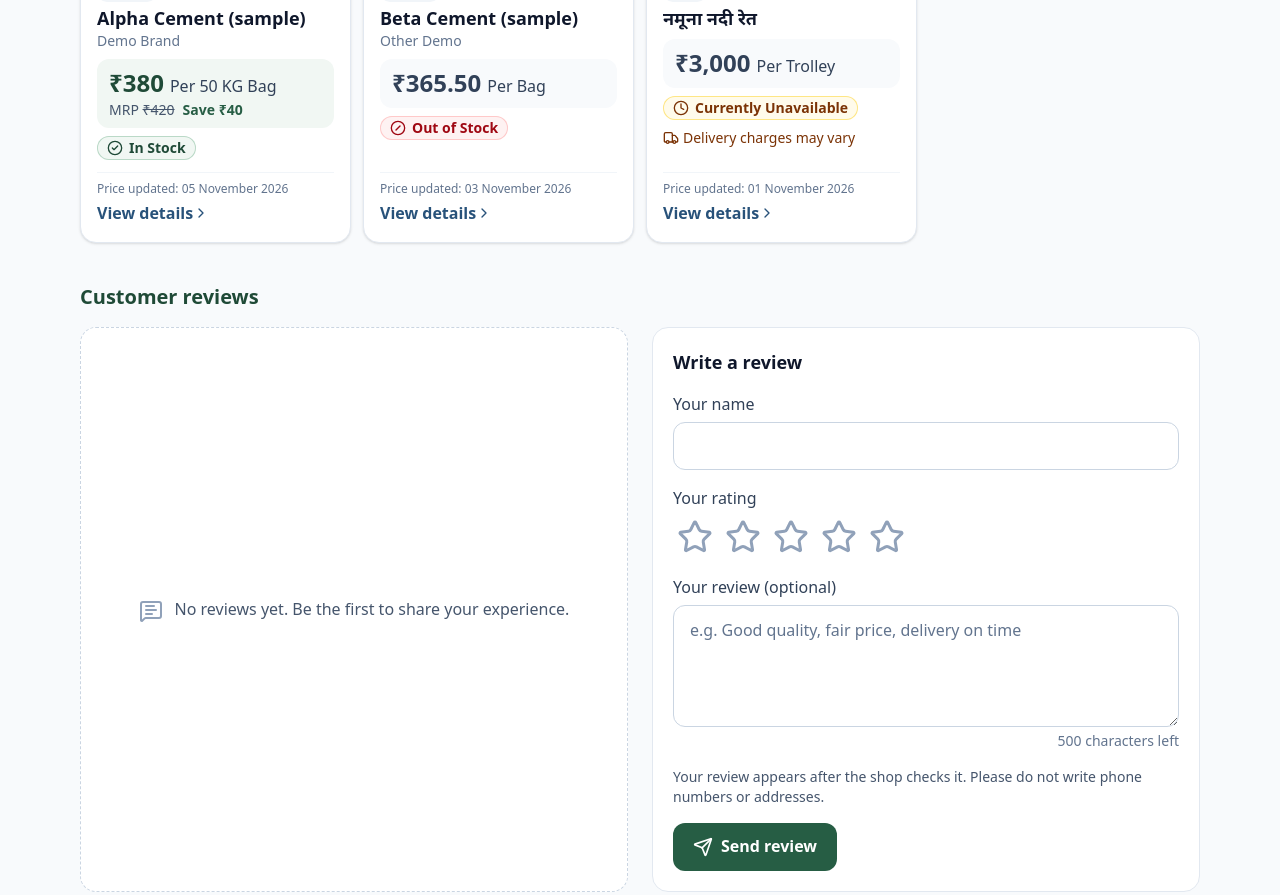
Test case: Shop photo, gallery and reviews below the products › sends a review and explains that it appears after the shop checks it
(page scrolled)
Step 1. Type "  Sample Customer " into the field labelled "Your name" → (926, 446), box [673,422,1179,470]
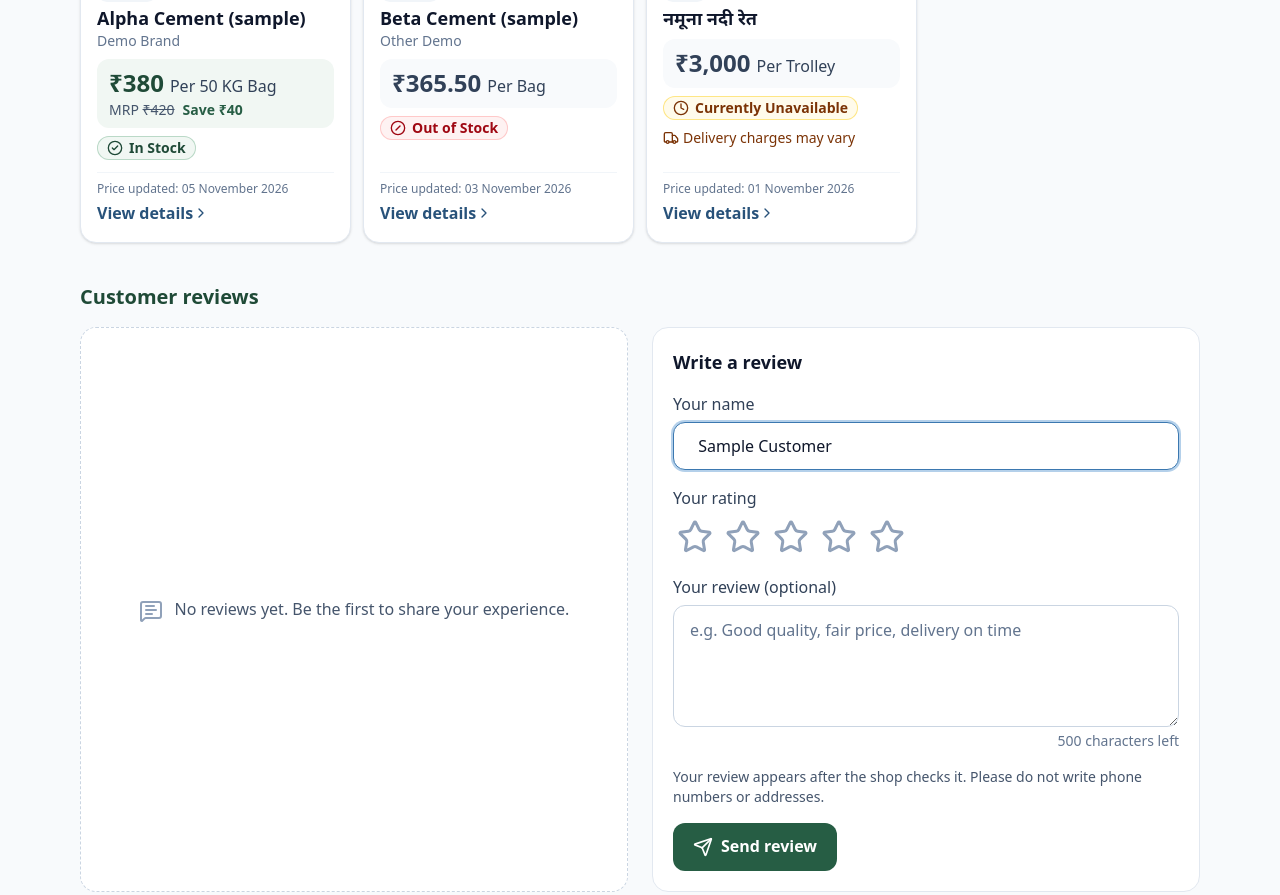
Step 2. Click the radio button named "4 stars" → click(839, 537), box [817,515,861,559]
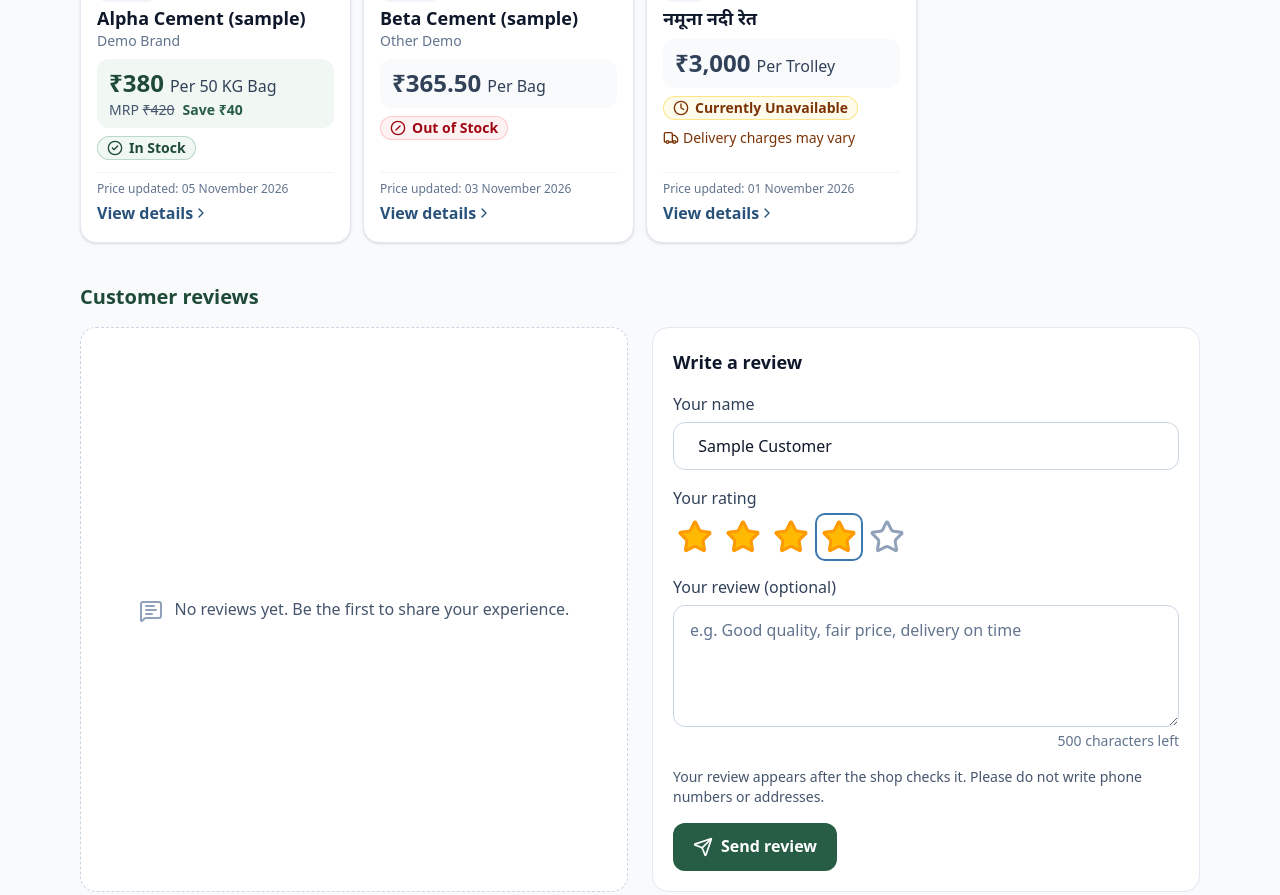
Step 3. Type "Good service (sample)" into the text box labelled "Your review (optional)" → (926, 666), box [673,605,1179,727]
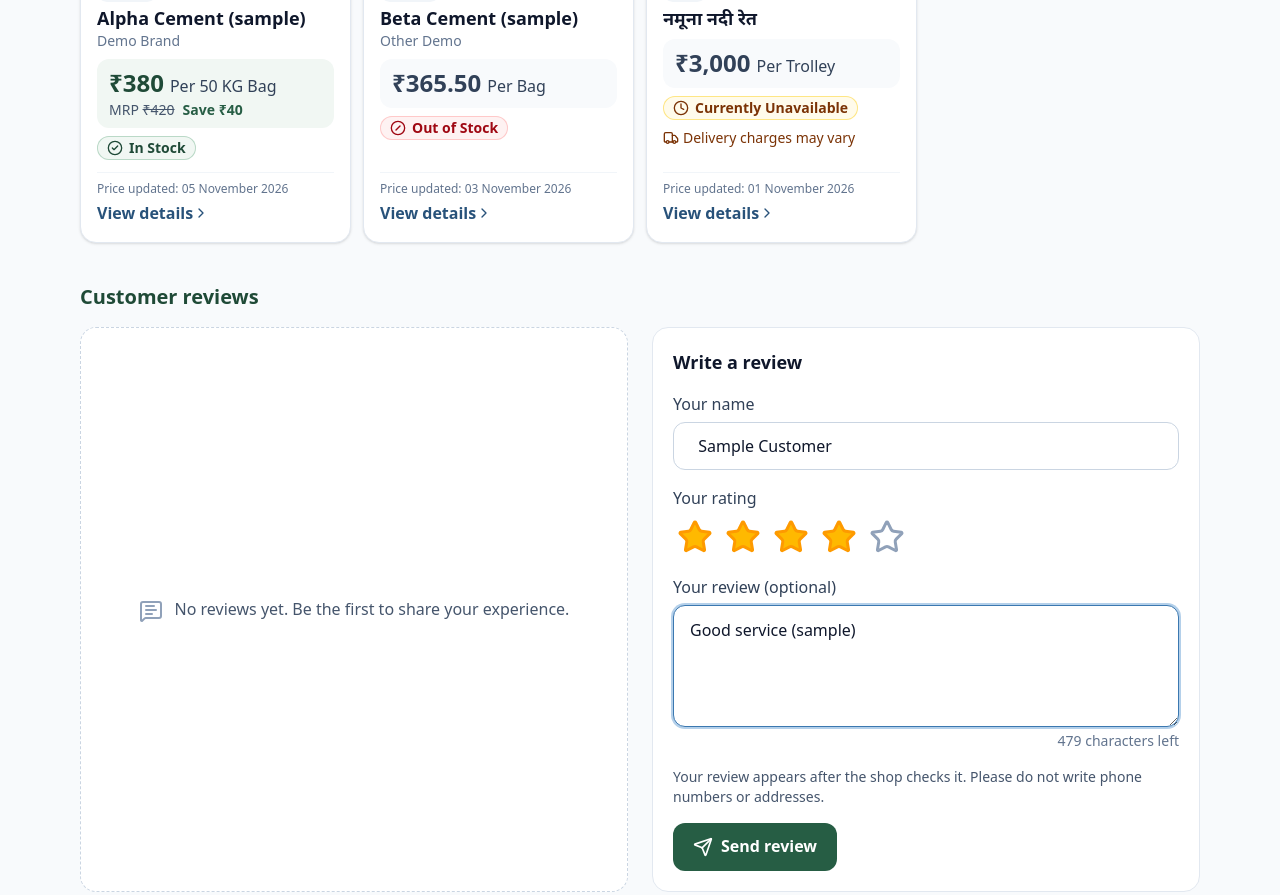
Check: the text "479 characters left" is shown, box [1058,731,1179,750]
Step 4. Click the button "Send review" → click(755, 847), box [673,823,837,871]
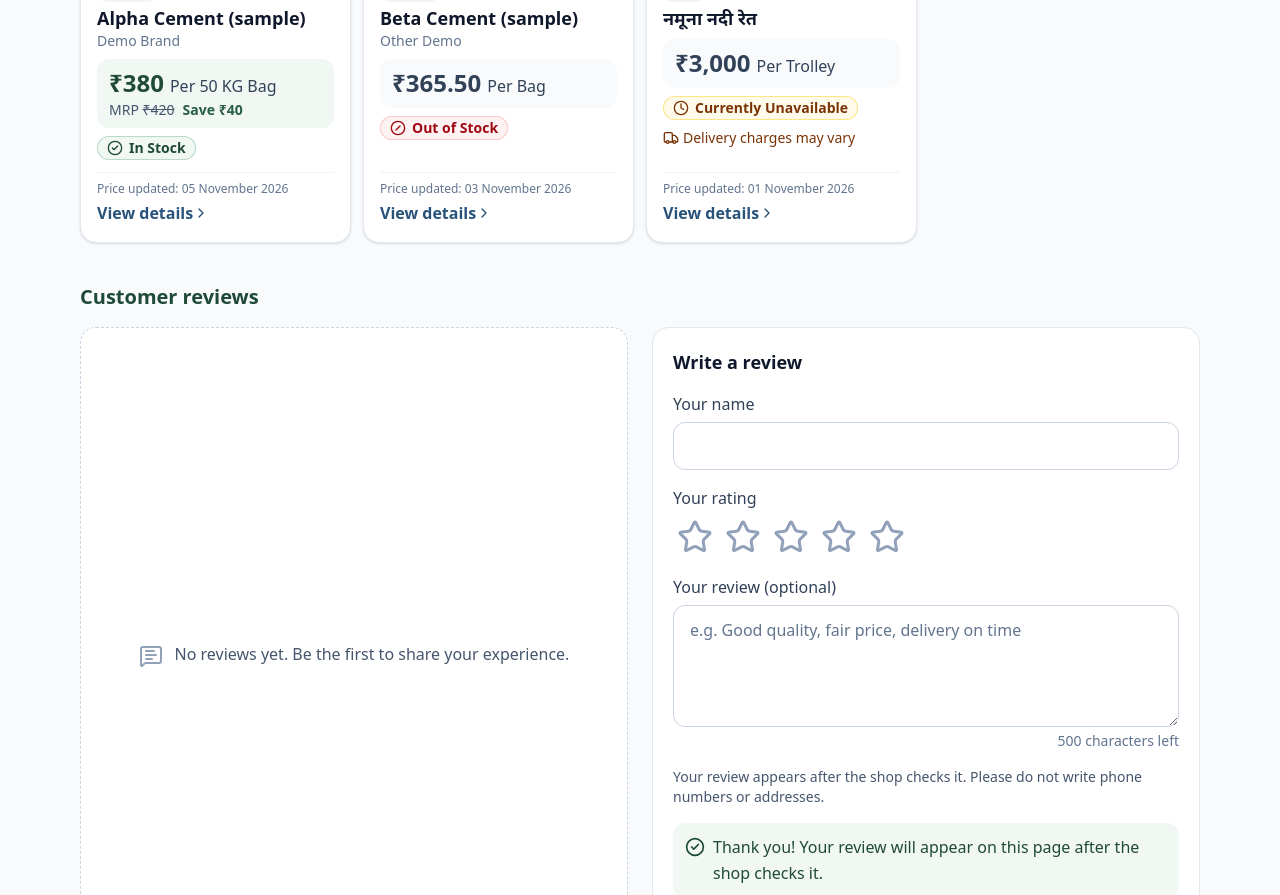
Check: the radio button named "4 stars" is not checked, box [817,515,861,559]
Check: the field labelled "Your name" is empty, box [673,422,1179,470]
